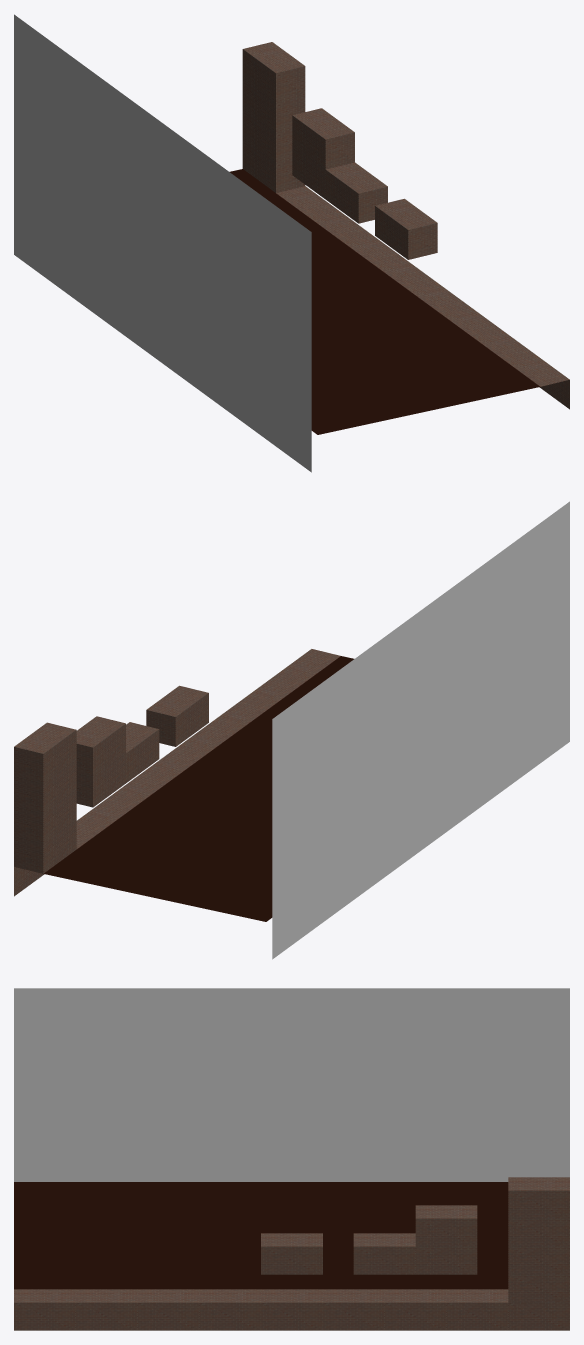
File: LV1_Plat2.fbx
3 renders of one model, top to bottom at view 1: azimuth 30°, elevation 25°; view 2: azimuth 150°, elevation 25°; view 3: azimuth 270°, elevation 25°, orthographic. The views are drawn at different scales.
Visible parts, largest first — view 1: SM_LV1_Plat2; view 2: SM_LV1_Plat2; view 3: SM_LV1_Plat2.
Boxes of the visible parts, x1,y1,x2,y2 form: SM_LV1_Plat2: (14, 14, 569, 472); SM_LV1_Plat2: (14, 501, 569, 959); SM_LV1_Plat2: (14, 988, 569, 1330).
Size of the model in its own units: 902 by 802 by 1800.
